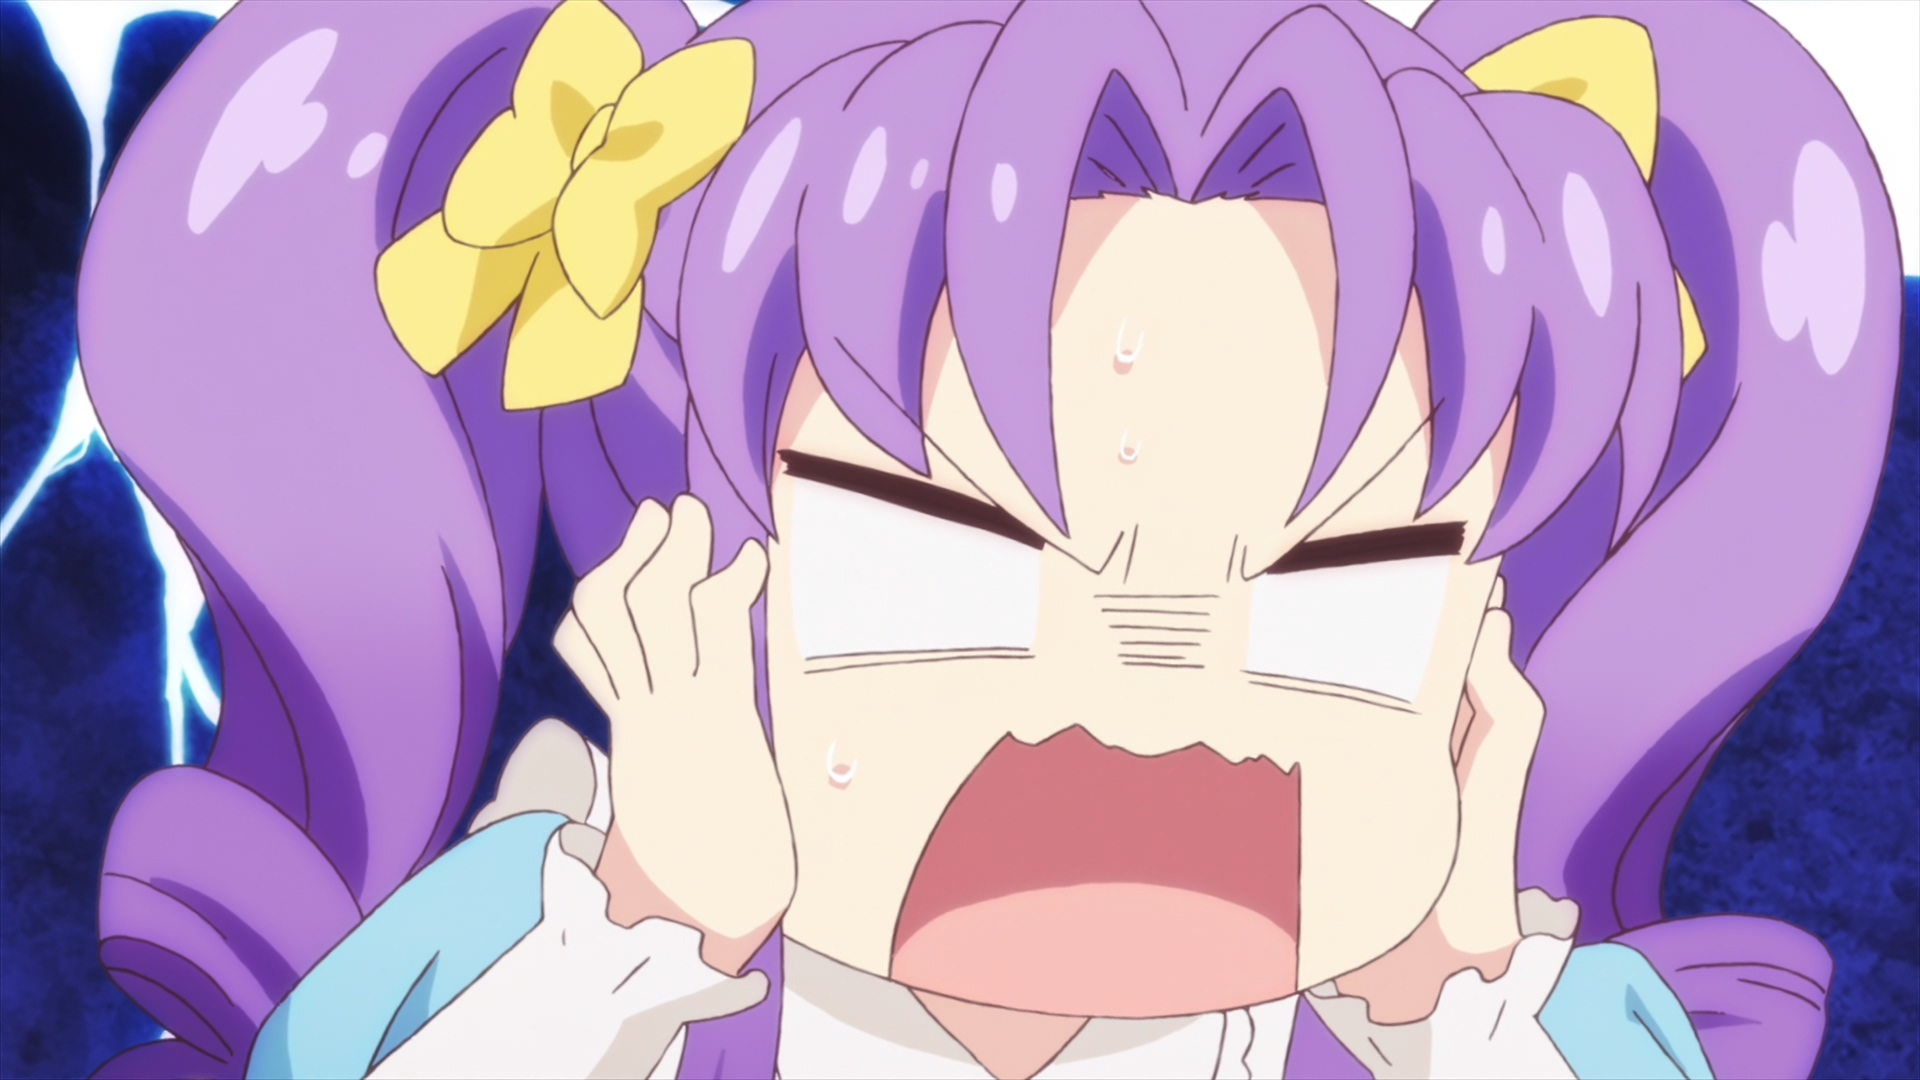阿菊: (76, 1, 1902, 1080)
